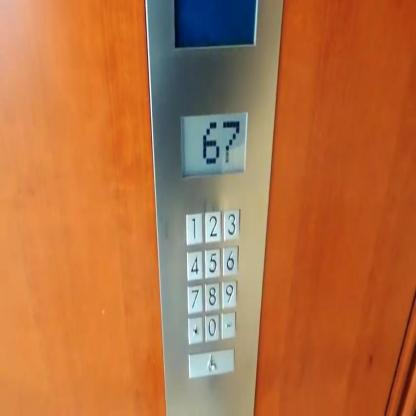-: (186, 315, 202, 344), (220, 310, 235, 339)
0: (204, 312, 220, 341)
1: (185, 212, 202, 245)
2: (204, 210, 220, 244)
3: (223, 207, 240, 240)
4: (186, 248, 202, 282)
5: (203, 246, 220, 279)
6: (221, 244, 238, 276)
7: (186, 284, 202, 314)
8: (204, 281, 220, 311)
9: (221, 278, 237, 309)
CH: (187, 347, 235, 378)
led: (179, 107, 248, 177)
